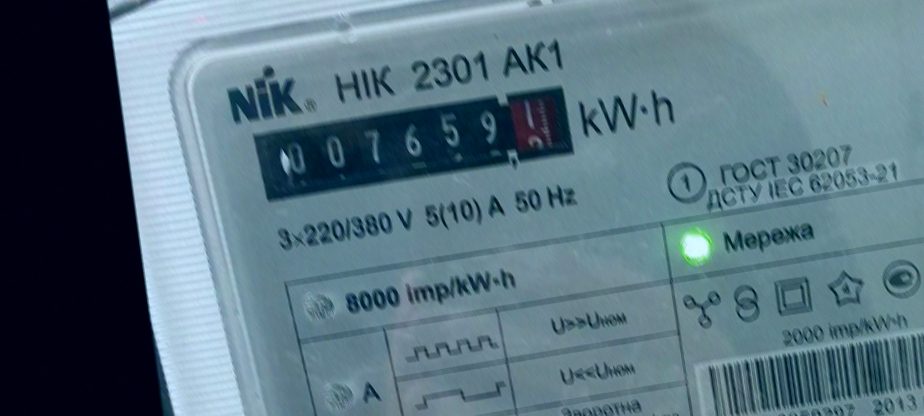0: (284, 136, 311, 178), (323, 131, 351, 171)
1: (520, 94, 541, 132)
5: (439, 109, 464, 149)
6: (400, 119, 427, 158)
7: (361, 125, 387, 165)
9: (477, 106, 503, 146)
screen: (244, 77, 587, 211)
